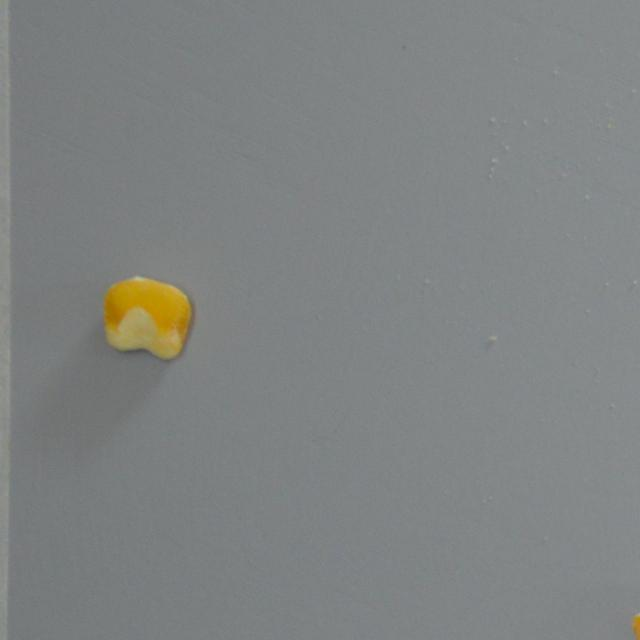pelicula: (102, 274, 193, 362)
